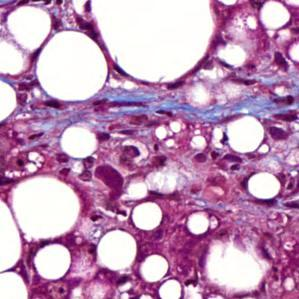steatosis: (34, 32, 109, 108)
